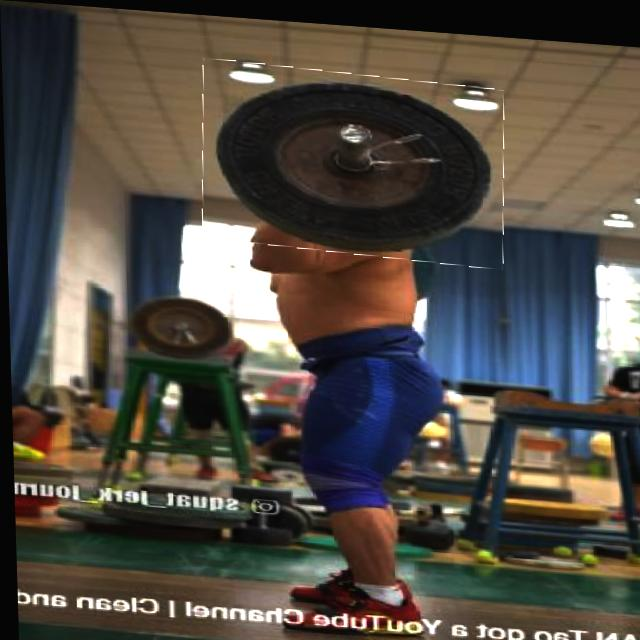barbell: (200, 59, 507, 261)
